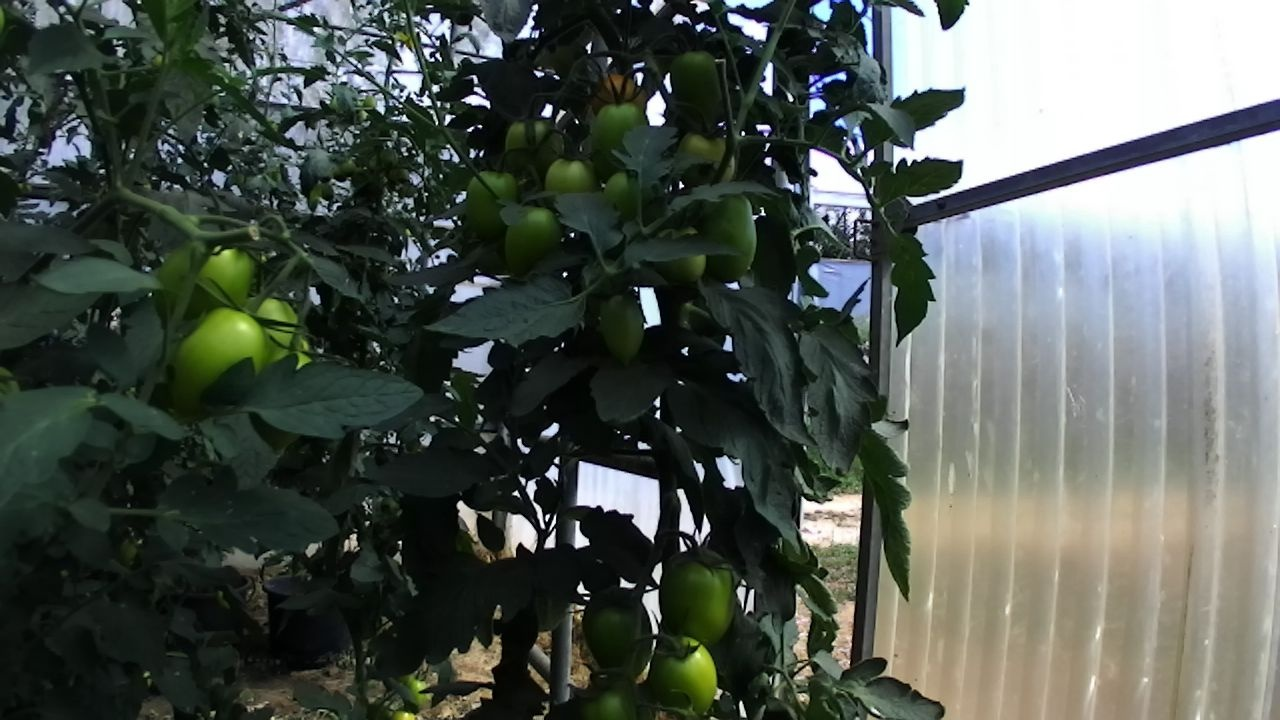tomato: (135, 207, 276, 354), (220, 252, 343, 408), (158, 293, 283, 430), (649, 529, 756, 662), (569, 572, 670, 696), (681, 178, 771, 294), (637, 619, 737, 720), (577, 86, 661, 192), (657, 41, 741, 138), (661, 115, 747, 204), (495, 102, 581, 184), (495, 195, 569, 289), (589, 281, 659, 375), (533, 136, 612, 219), (454, 161, 530, 244), (650, 212, 720, 298), (563, 656, 658, 718), (400, 669, 434, 720), (333, 154, 364, 180), (315, 178, 339, 204), (359, 89, 381, 115)
